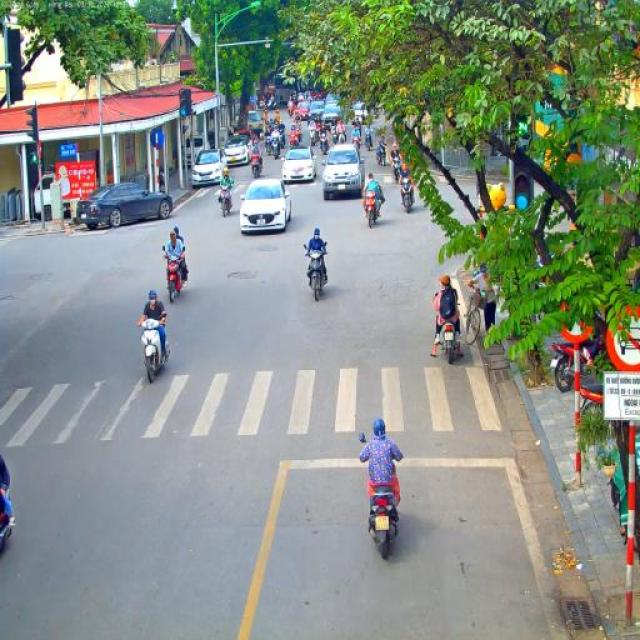car: (74, 180, 174, 230), (238, 176, 292, 236), (320, 142, 366, 200), (280, 146, 318, 185), (192, 149, 228, 190), (221, 132, 254, 168), (320, 101, 341, 130), (306, 100, 326, 128), (352, 101, 368, 125), (294, 102, 311, 123)
motorcycle: (360, 432, 400, 558), (605, 437, 640, 538), (550, 331, 598, 393), (138, 314, 171, 384), (571, 372, 615, 422), (302, 240, 328, 301), (162, 244, 186, 304), (436, 316, 462, 365), (363, 188, 382, 228), (0, 502, 14, 552), (400, 175, 416, 214), (218, 184, 232, 216), (250, 150, 264, 178), (376, 140, 389, 168), (392, 155, 404, 184), (275, 121, 286, 148), (271, 138, 284, 160), (363, 129, 373, 151), (349, 136, 362, 152), (329, 128, 339, 148), (318, 135, 328, 155), (264, 134, 274, 154), (309, 128, 319, 146), (290, 131, 300, 149), (294, 126, 304, 142), (339, 130, 346, 144), (288, 103, 294, 118)
truck: (34, 172, 81, 224), (234, 110, 264, 146)
